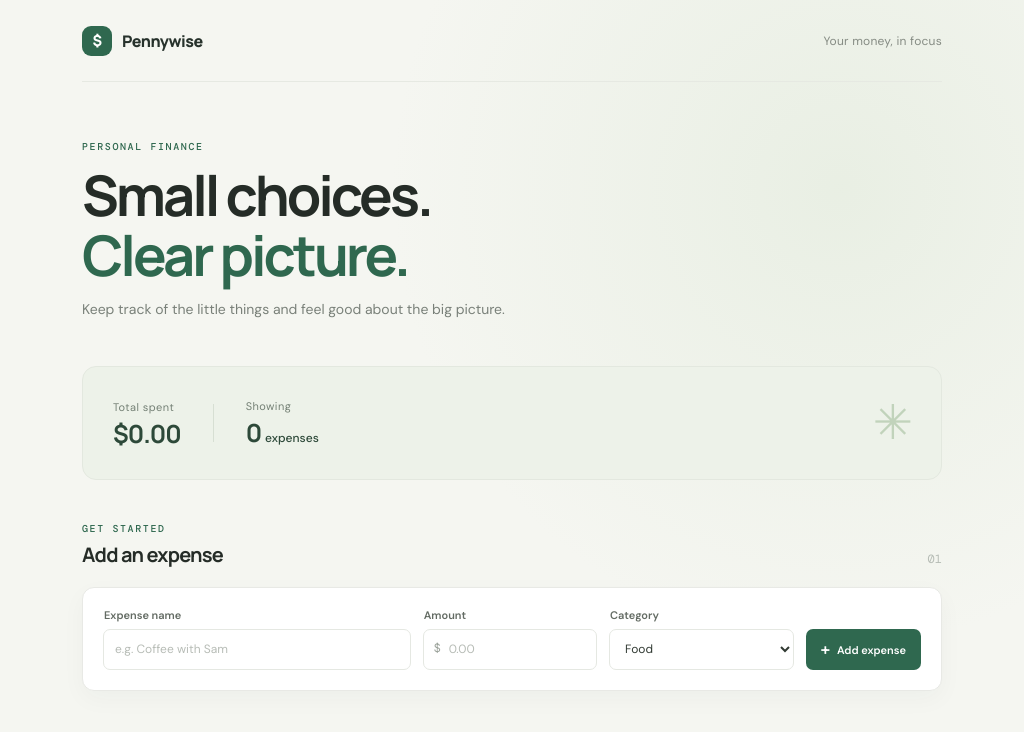
it: expense tracker › rejects invalid amount 0
Step 1. Type "Invalid" into the field labelled "Expense name" → (257, 649), box [103, 629, 411, 670]
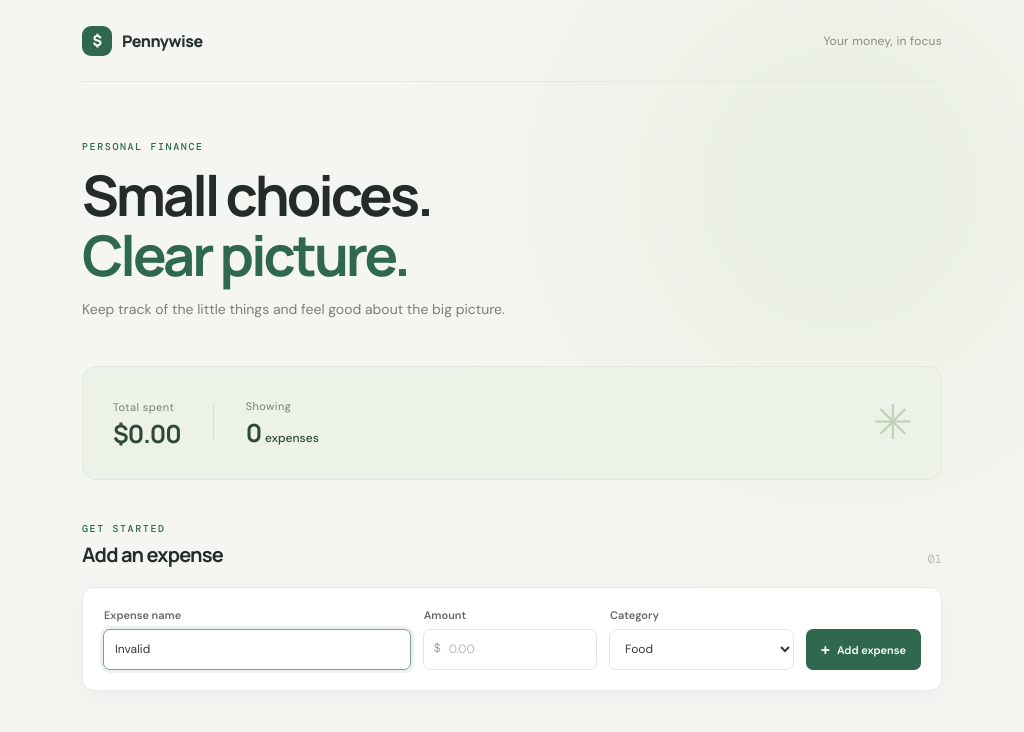
Step 2. Type "0" into the number field labelled "Amount" → (510, 649), box [423, 629, 597, 670]
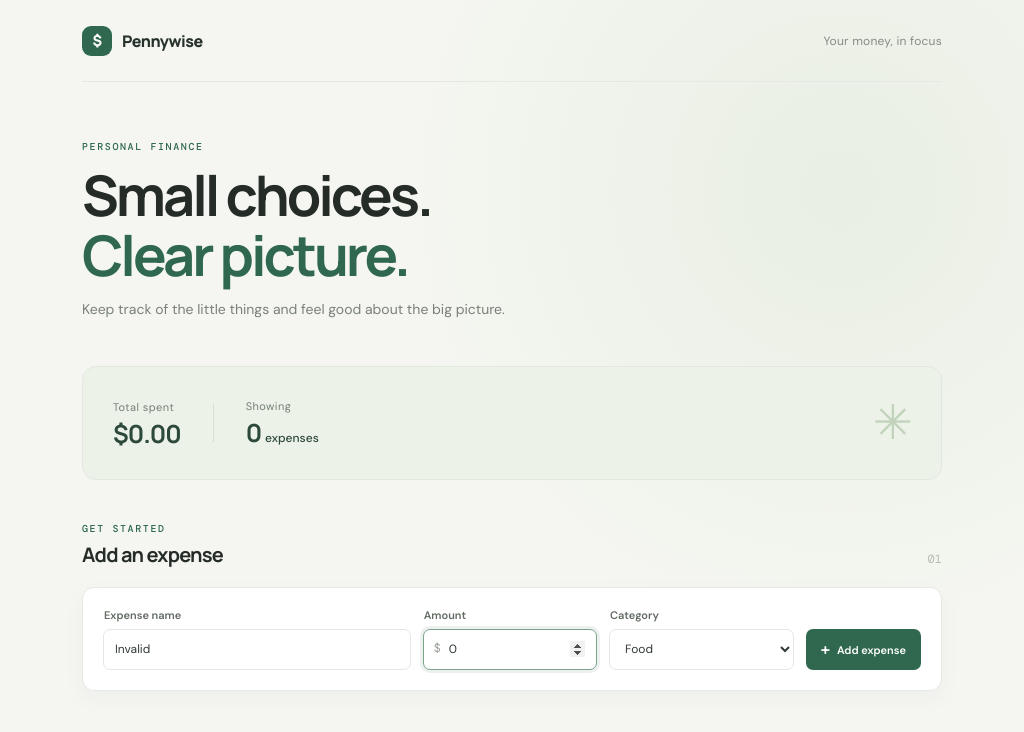
Step 3. Click the button "+ Add expense" → (863, 649), box [806, 629, 921, 670]
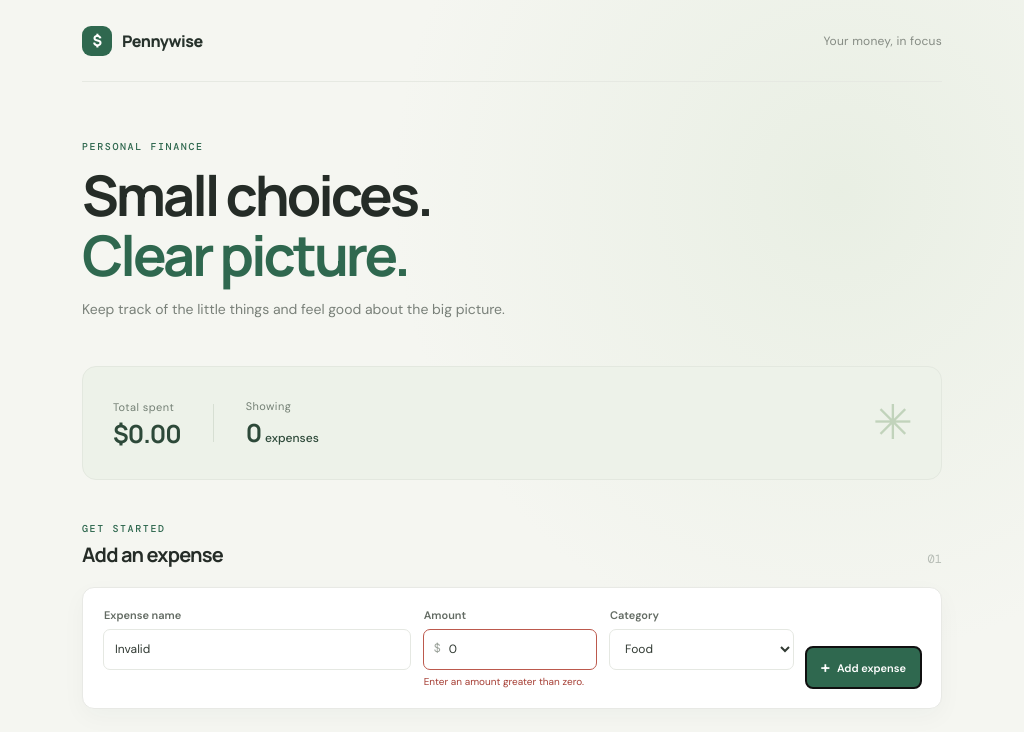
Check: the text "Enter an amount greater than zero." is shown, box [424, 675, 597, 688]
